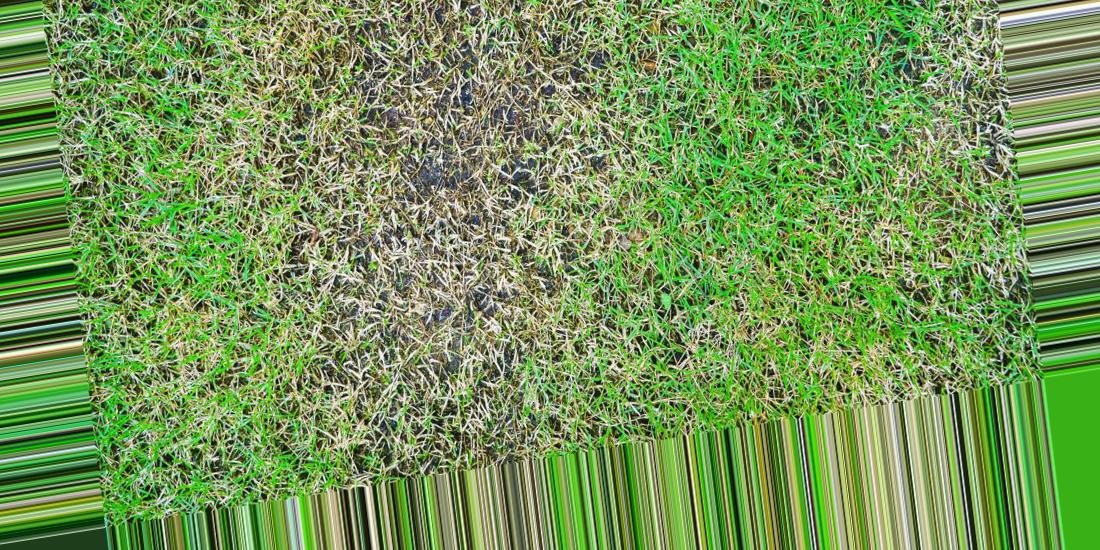patch: (260, 172, 573, 285), (222, 44, 473, 138), (366, 357, 622, 430), (585, 81, 812, 159), (764, 220, 902, 318), (876, 94, 986, 179)
